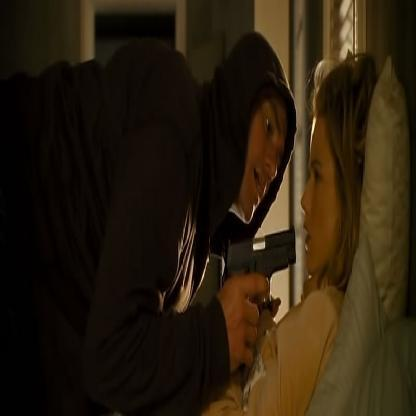gun: (220, 220, 304, 294)
